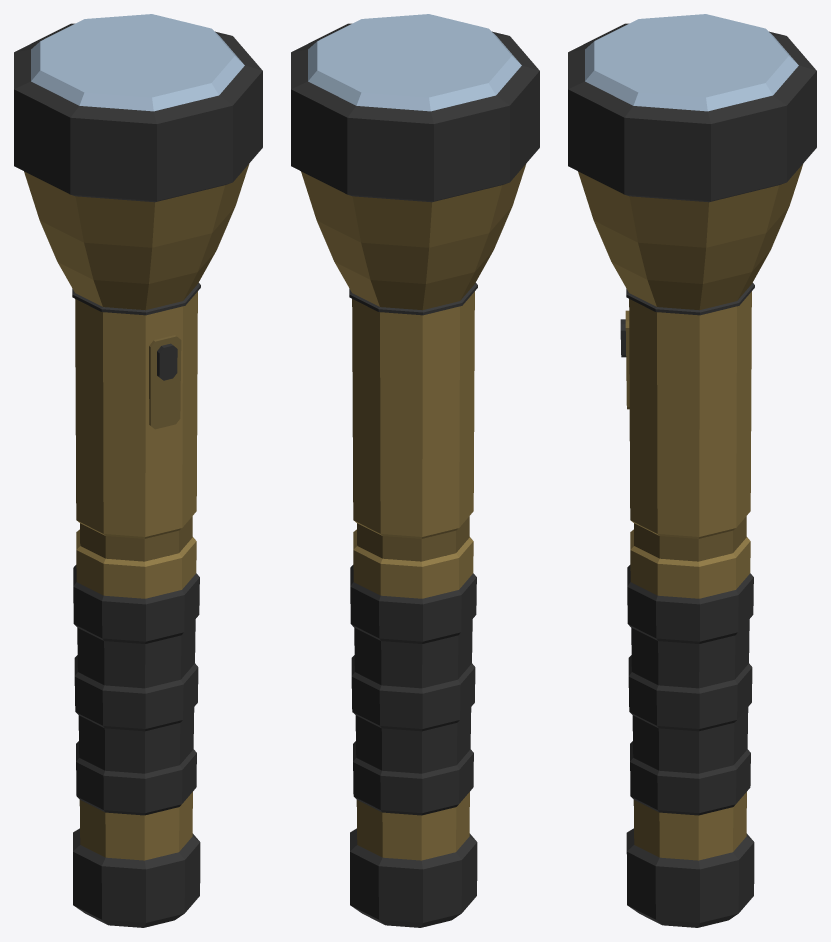
The model's file is Torch.glb.
3 views of the same model, side by side, from view 1: azimuth 30°, elevation 25°; view 2: azimuth 150°, elevation 25°; view 3: azimuth 270°, elevation 25° (orthographic).
Parts seen in each view (by area): view 1: Torch; view 2: Torch; view 3: Torch.
Part boxes in pixels (bbox=[...]): Torch: bbox=[14, 14, 262, 927]; Torch: bbox=[291, 14, 539, 927]; Torch: bbox=[568, 14, 816, 927].
Bounding box in the file's own units: 0.6764 × 2.51 × 0.666.
